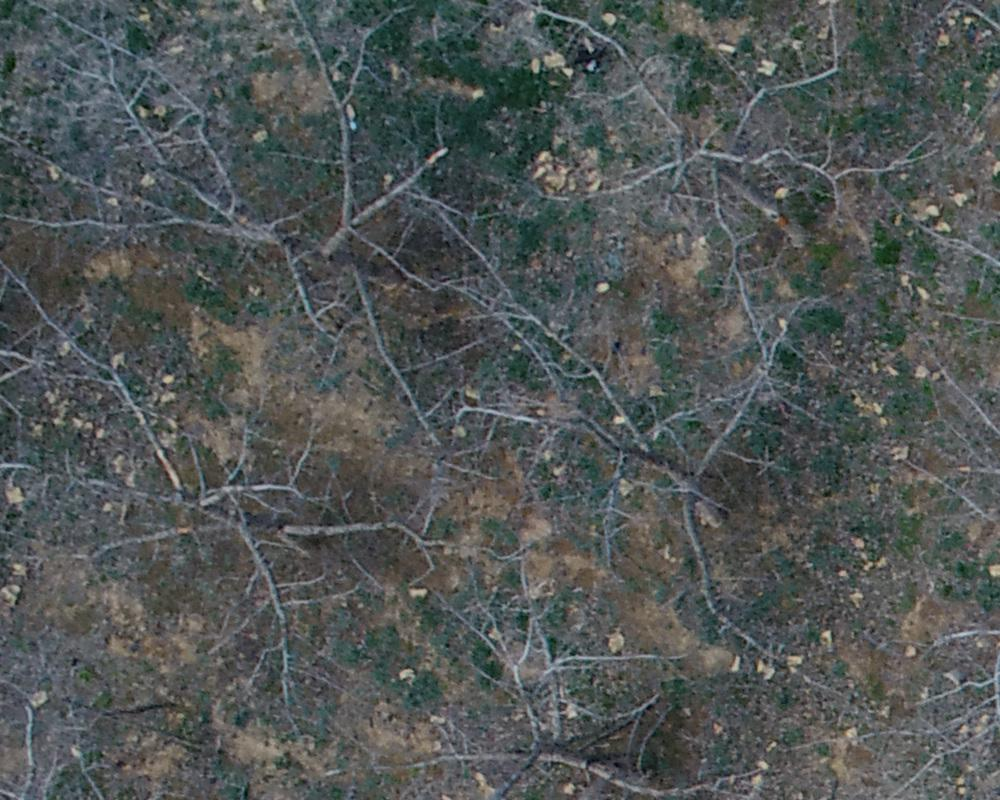apple: (37, 16, 473, 425), (16, 290, 443, 696), (528, 10, 893, 340), (463, 302, 810, 619), (411, 593, 749, 790)
